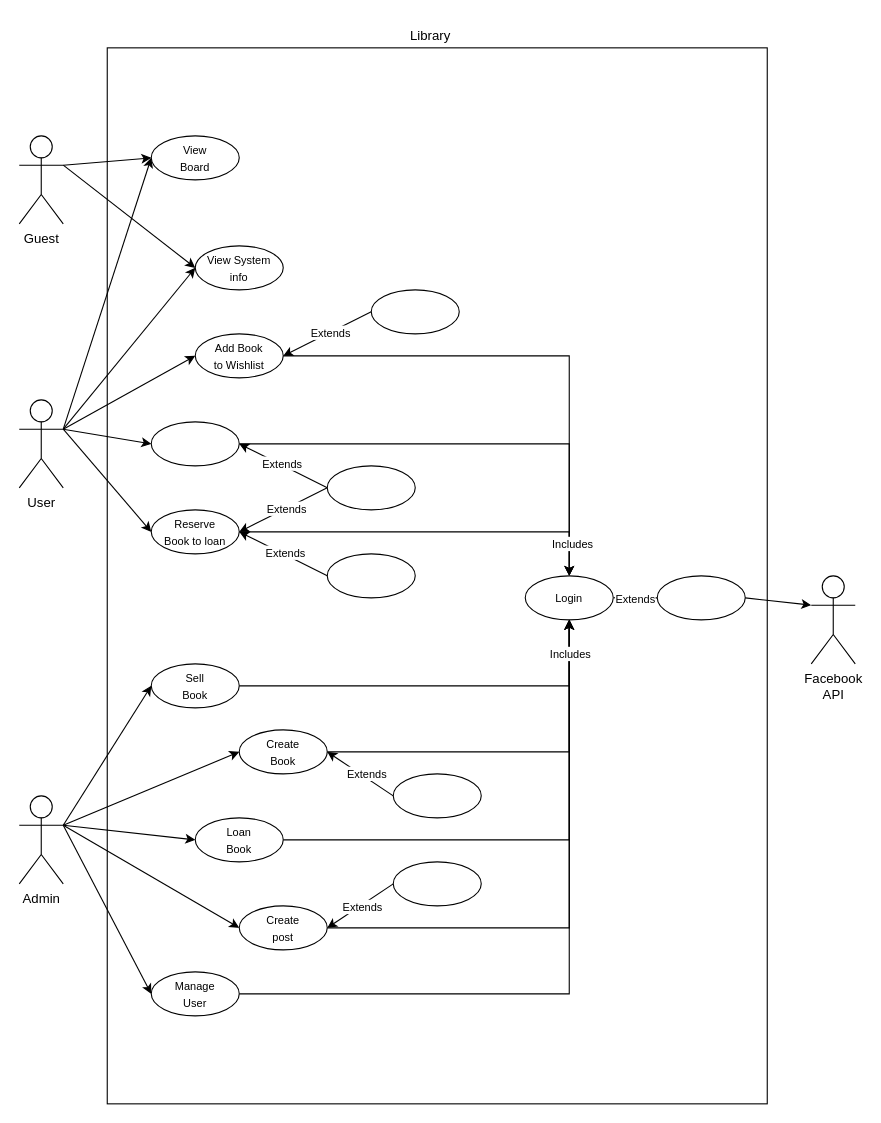
This 881x1123 diagram has some shape labels left out. Each missing label, with the centre of its shape:
"Exernal Login" goes at [700,597].
"Manage Book" goes at [436,795].
"Manage post" goes at [436,883].
"Remove Book from Wishlist" goes at [414,311].
"Reserve Book to buy" goes at [194,443].
"View deadline" goes at [370,575].
"Write Review" goes at [370,487].
